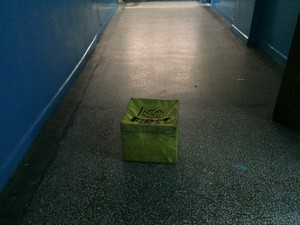cube: (121, 98, 179, 164)
